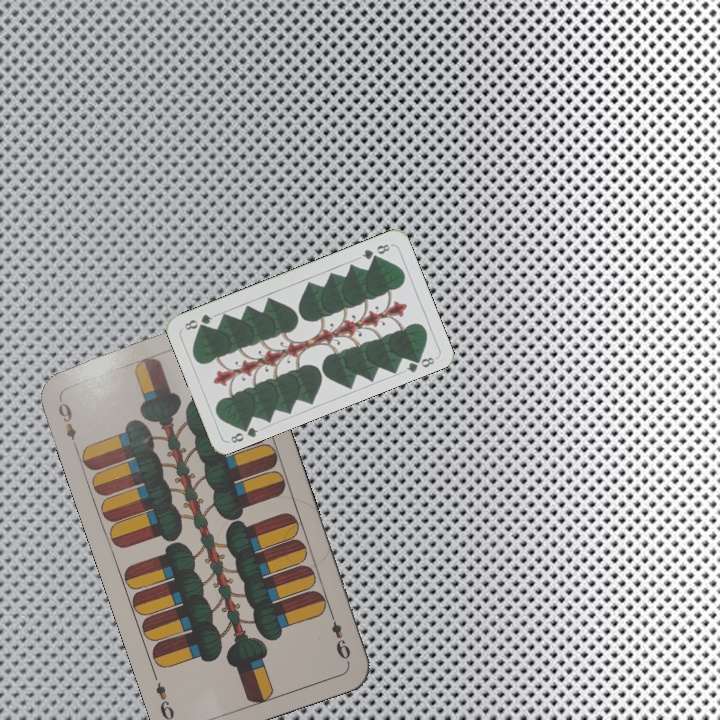E9: (325, 607, 354, 662), (54, 394, 79, 443)
G8: (226, 419, 261, 446), (358, 240, 393, 262)
